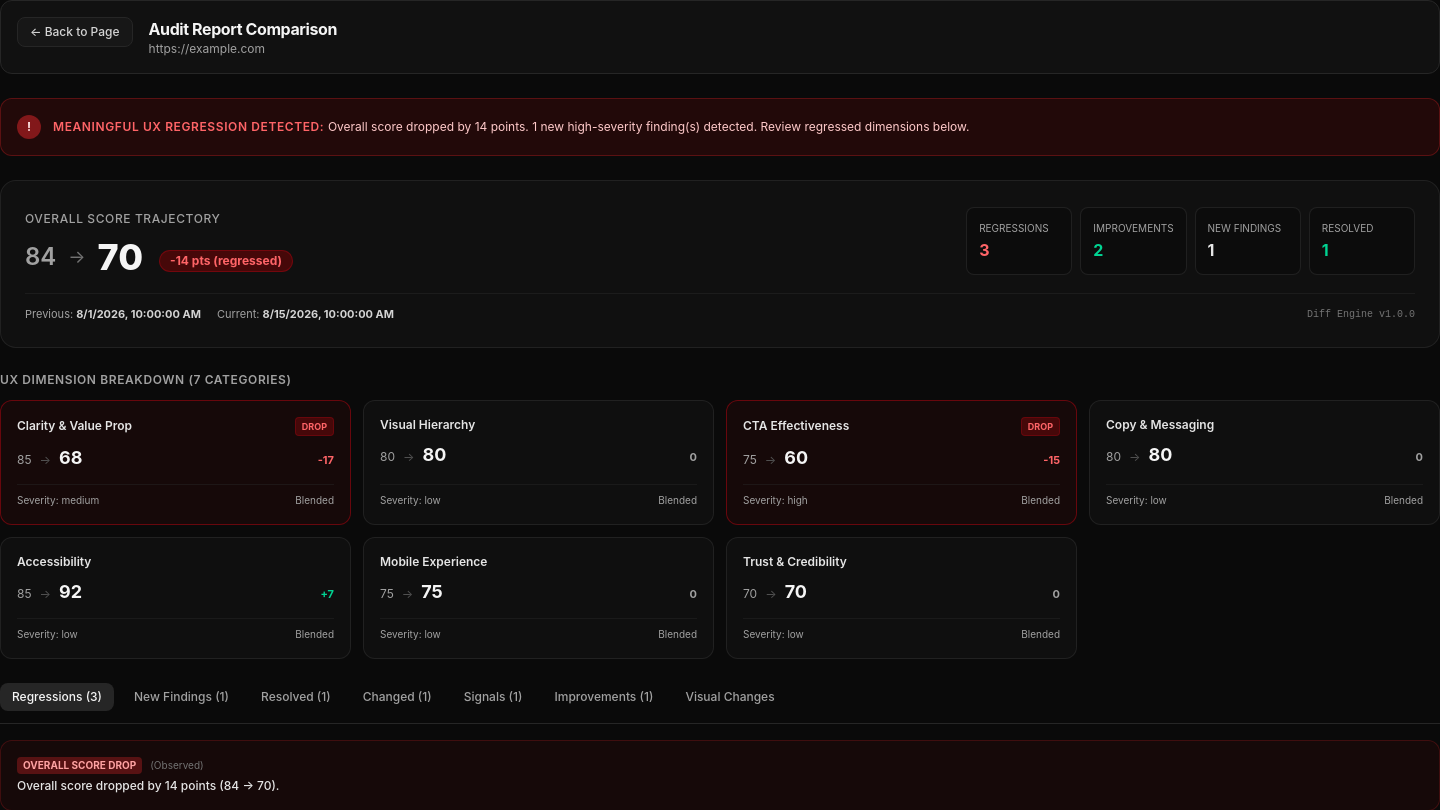
Test: <ReportComparisonView /> › navigates between diff tabs: New, Resolved, Changed, Signals, Improvements
The width and height of the screenshot is (1440, 810).
// New Findings Tab
What coordinates should you click on to do the following:
click the button "New Findings (1)"
I would click on:
 (182, 697)
Its box is [122,683,241,711].
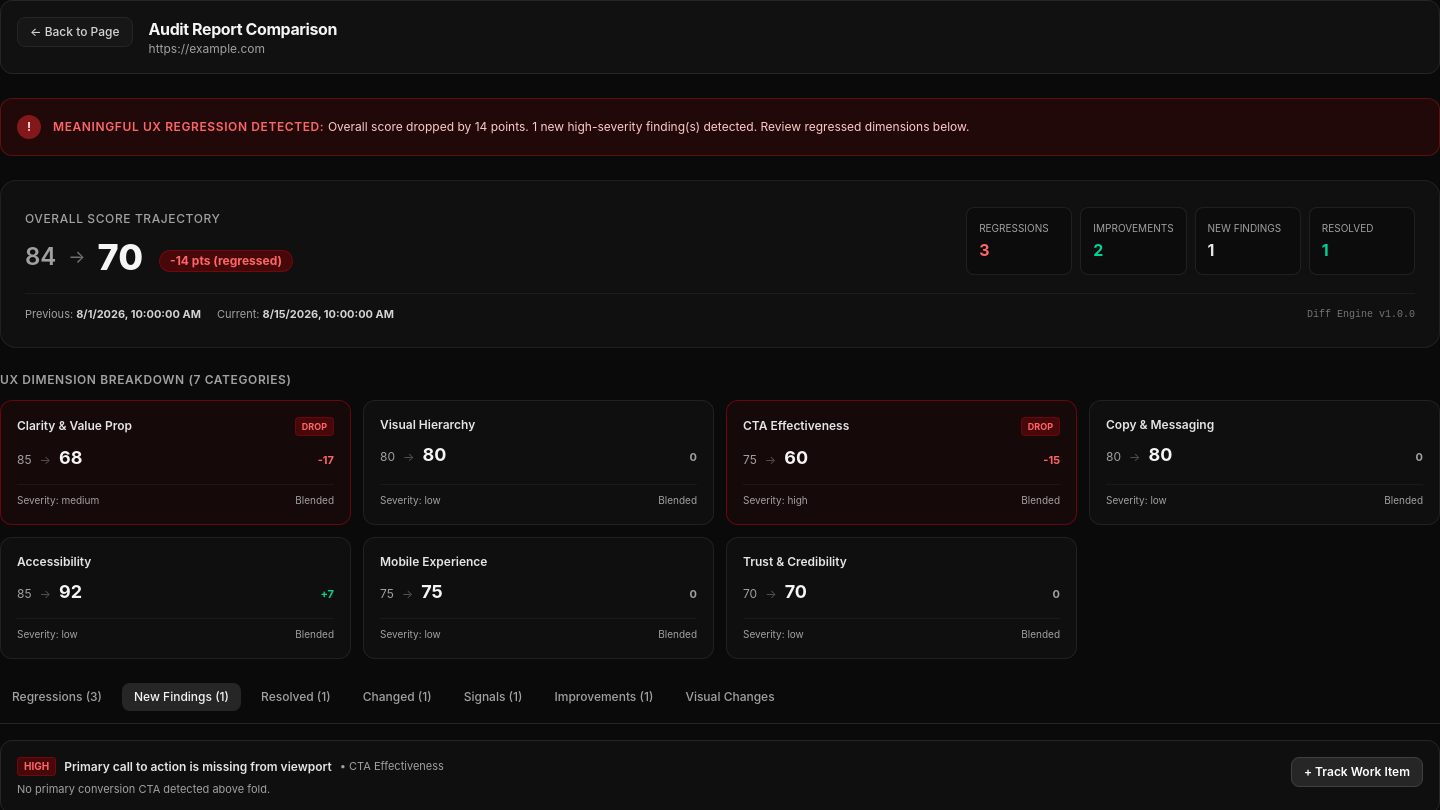
Expected: the text "Primary call to action is missing from viewport" is shown, [64,759,332,775]
Now the button "+ Track Work Item" is shown, box [1291,757,1423,787]
// Resolved Findings Tab
What coordinates should you click on to do the following:
click the button "Resolved (1)"
I would click on:
 (296, 697)
Its box is [249,683,343,711].
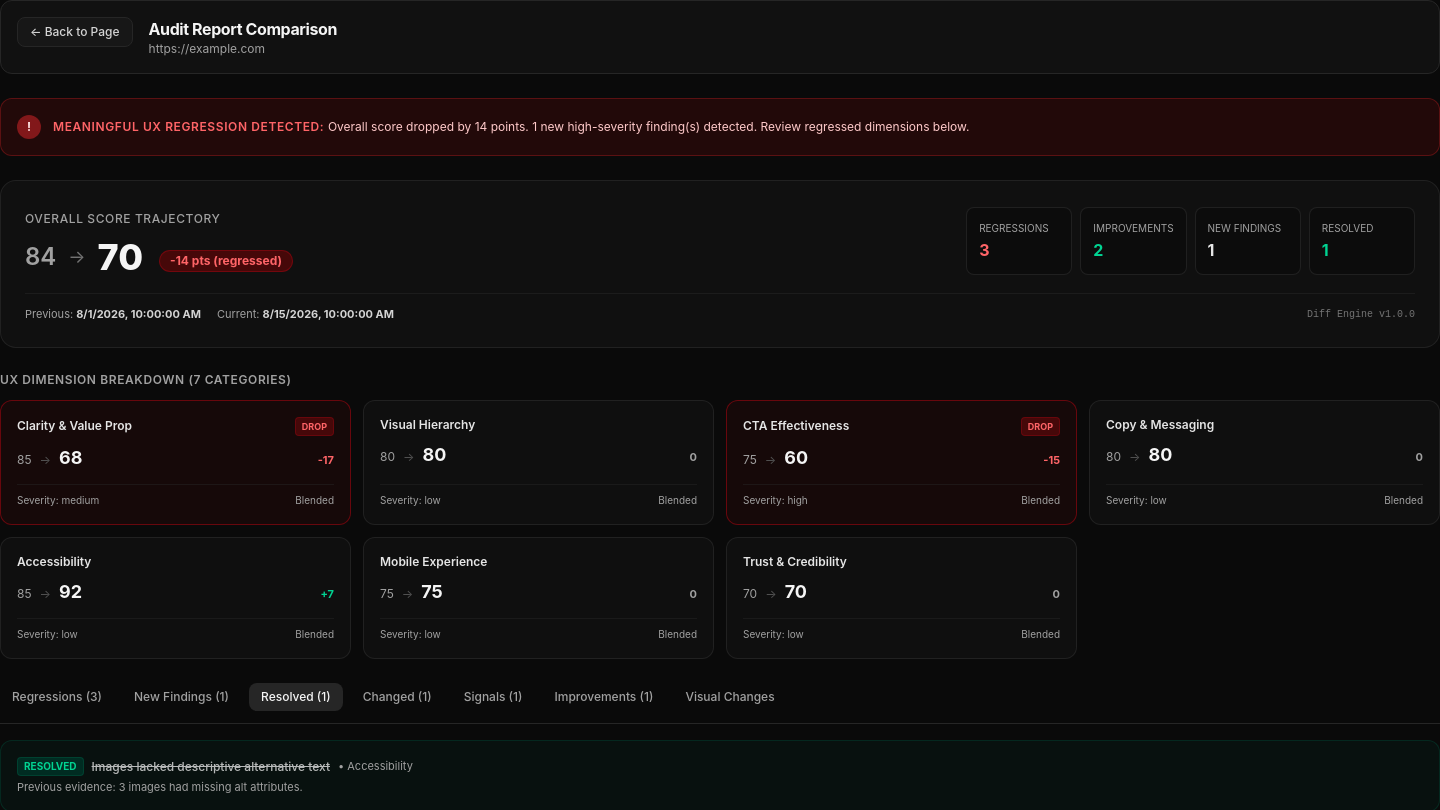
Now the text "Images lacked descriptive alternative text" is shown, box [92,759,330,775]
// Changed Findings Tab
What coordinates should you click on to do the following:
click the button "Changed (1)"
I would click on:
 (397, 697)
Its box is [351,683,444,711].
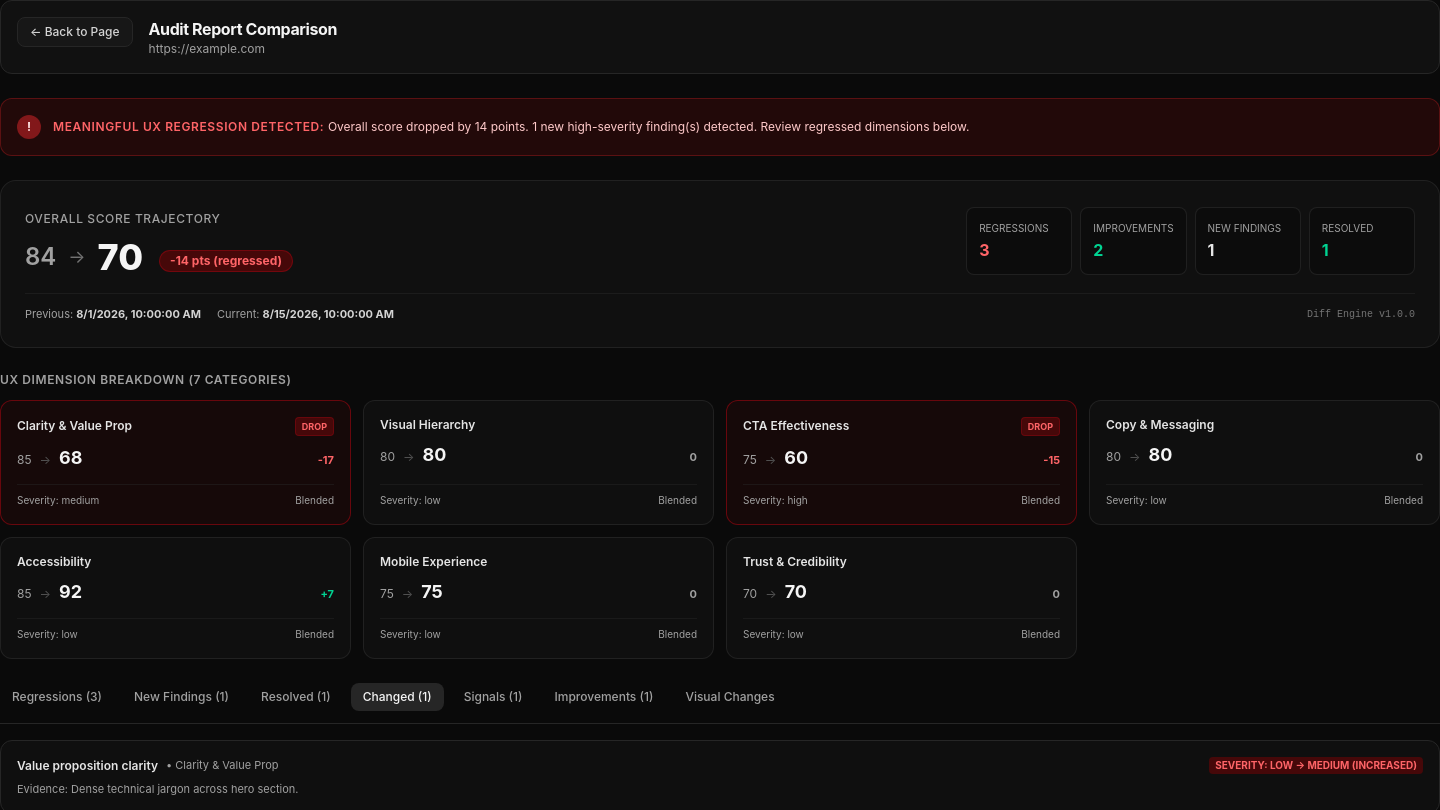
Now the text "Value proposition clarity" is shown, box [17,758,158,774]
Now the text "Severity: low → medium (increased)" is shown, box [1209,757,1423,774]
// Signals Tab
What coordinates should you click on to do the following:
click the button "Signals (1)"
I would click on:
 (493, 697)
Its box is [452,683,534,711].
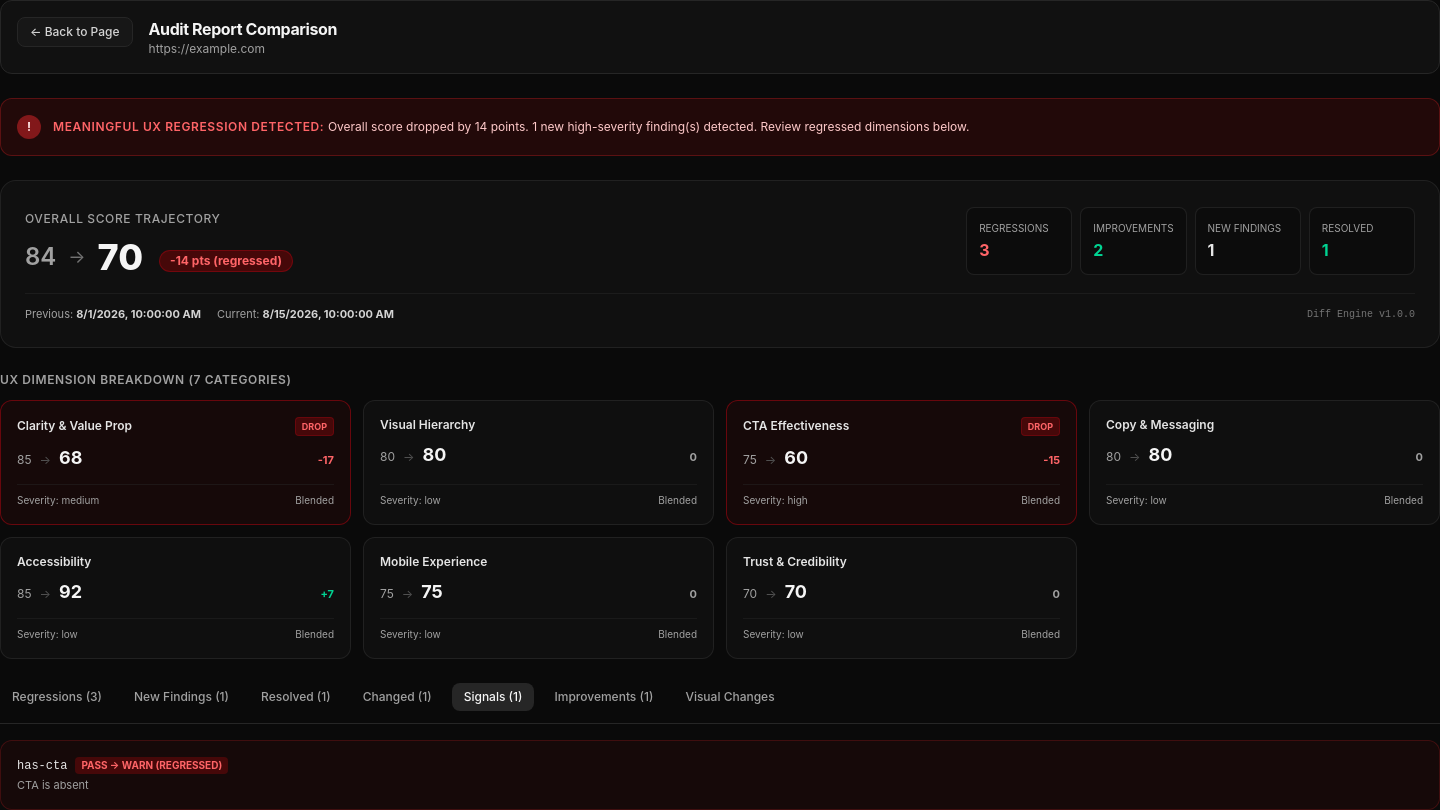
Now the text "has-cta" is shown, box [17,758,67,774]
Now the text "pass → warn (regressed)" is shown, box [75,757,228,774]
// Improvements Tab
What coordinates should you click on to do the following:
click the button "Improvements (1)"
I would click on:
 (604, 697)
Its box is [542,683,665,711].
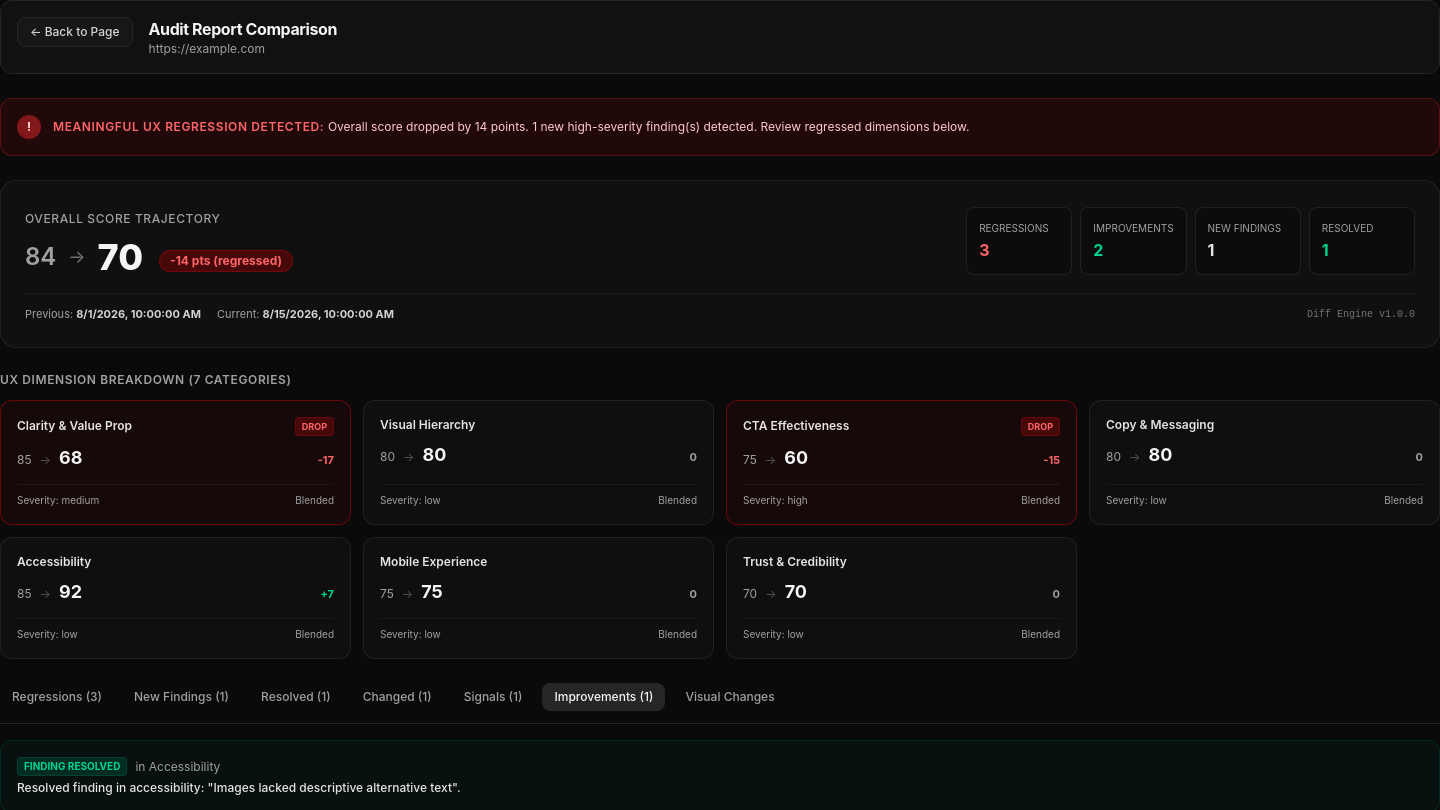
Now the text "Resolved finding in accessibility" is shown, box [17,780,460,795]
